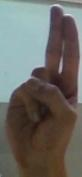U: (1, 1, 80, 170)
